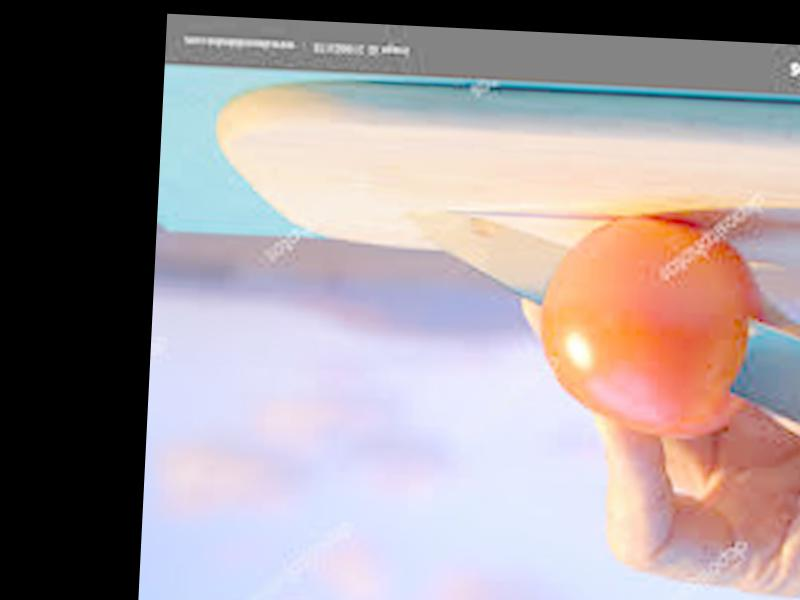Tomato: (533, 207, 768, 438)
